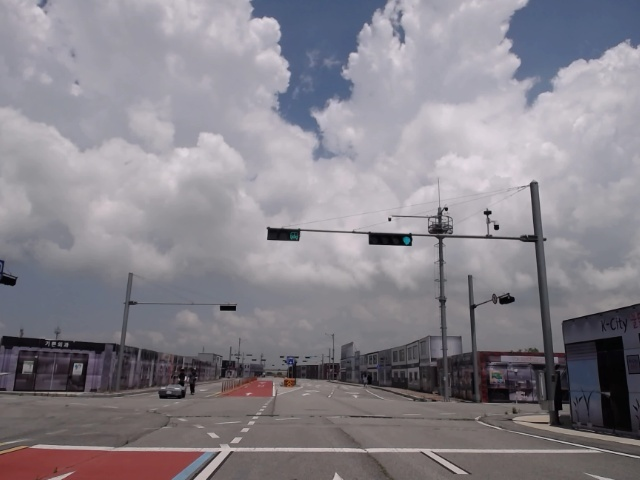straight_green_4: (369, 232, 413, 245)
